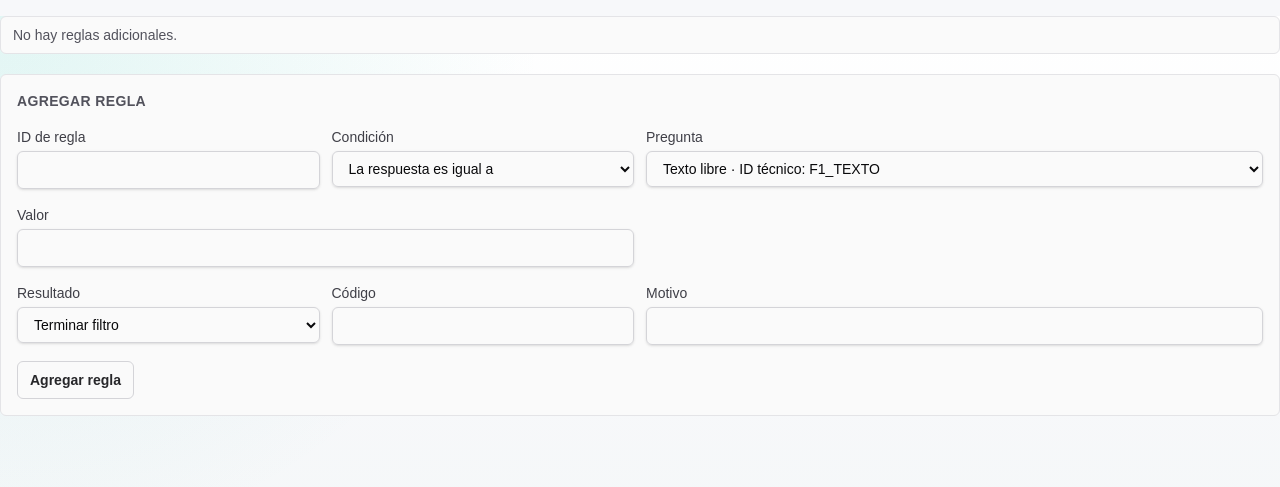
Test case: RuleGuidedForm › rechaza una combinación incompatible de pregunta y condición en el formulario
Select "El número está dentro del rango" in the dropdown labelled "Condición" at (483, 169), box [332,151,634,187]
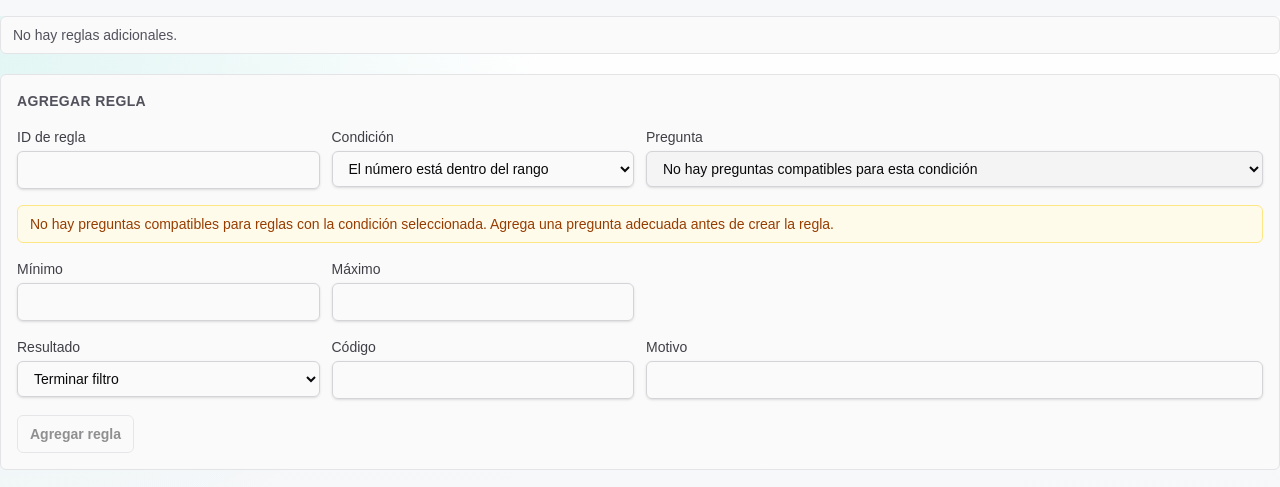
Result: the text "No hay preguntas compatibles para reglas" is shown at [30,216,834,232]
Result: the button "Agregar regla" is disabled at [17,415,134,453]
